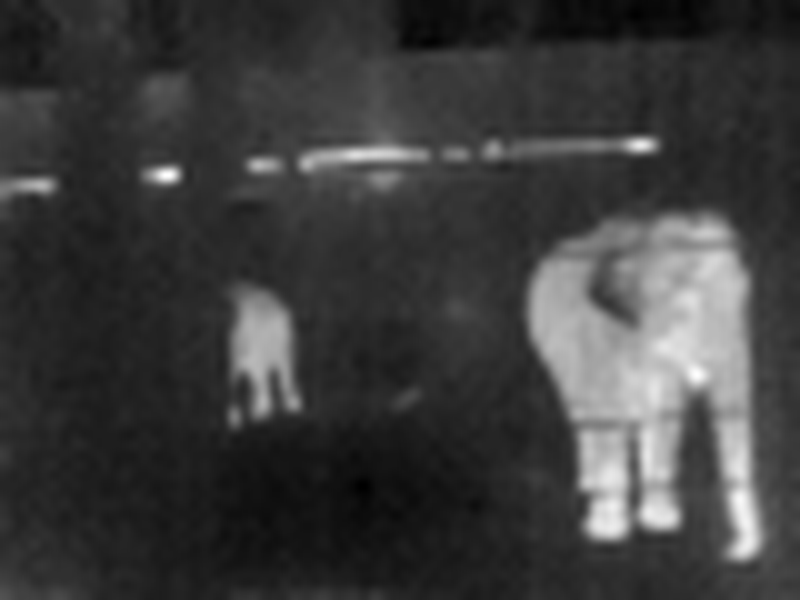elephant: (512, 211, 770, 553), (185, 293, 315, 424)
